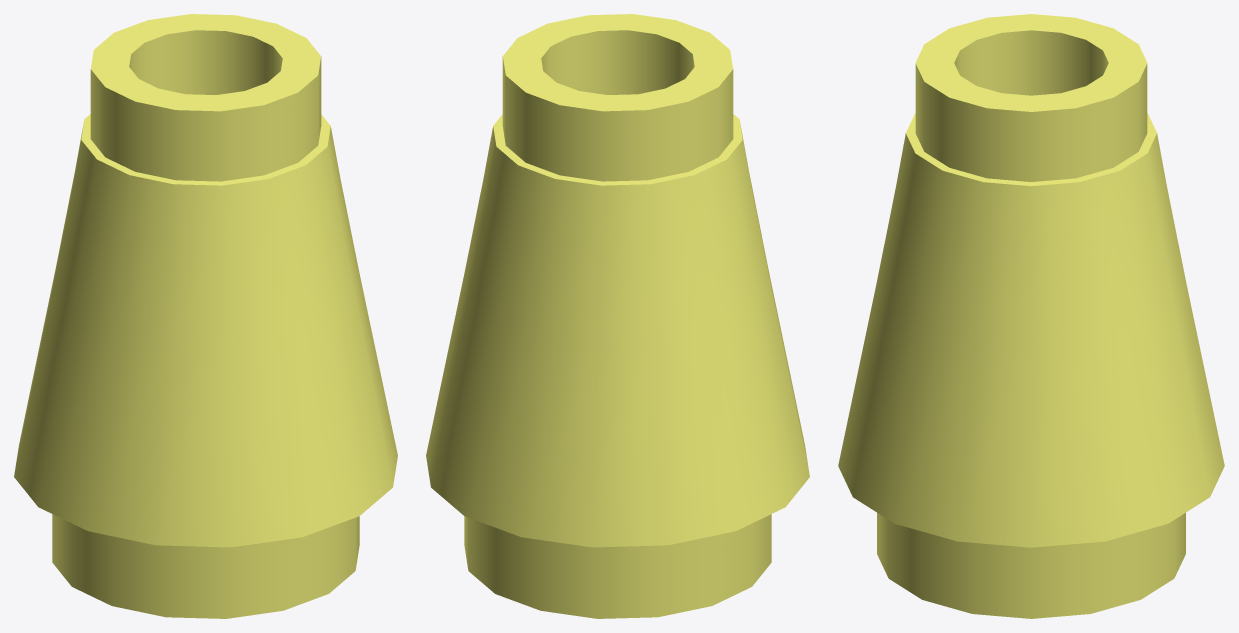
3 renders of one model, left to right at view 1: azimuth 30°, elevation 25°; view 2: azimuth 150°, elevation 25°; view 3: azimuth 270°, elevation 25°, orthographic.
Visible parts, largest first — view 1: 59900.dat; view 2: 59900.dat; view 3: 59900.dat.
Boxes of the visible parts, x1,y1,x2,y2 form: 59900.dat: (14, 14, 397, 618); 59900.dat: (426, 14, 809, 618); 59900.dat: (838, 14, 1224, 618).
Size of the model in its own units: 0.008 by 0.0112 by 0.008.
